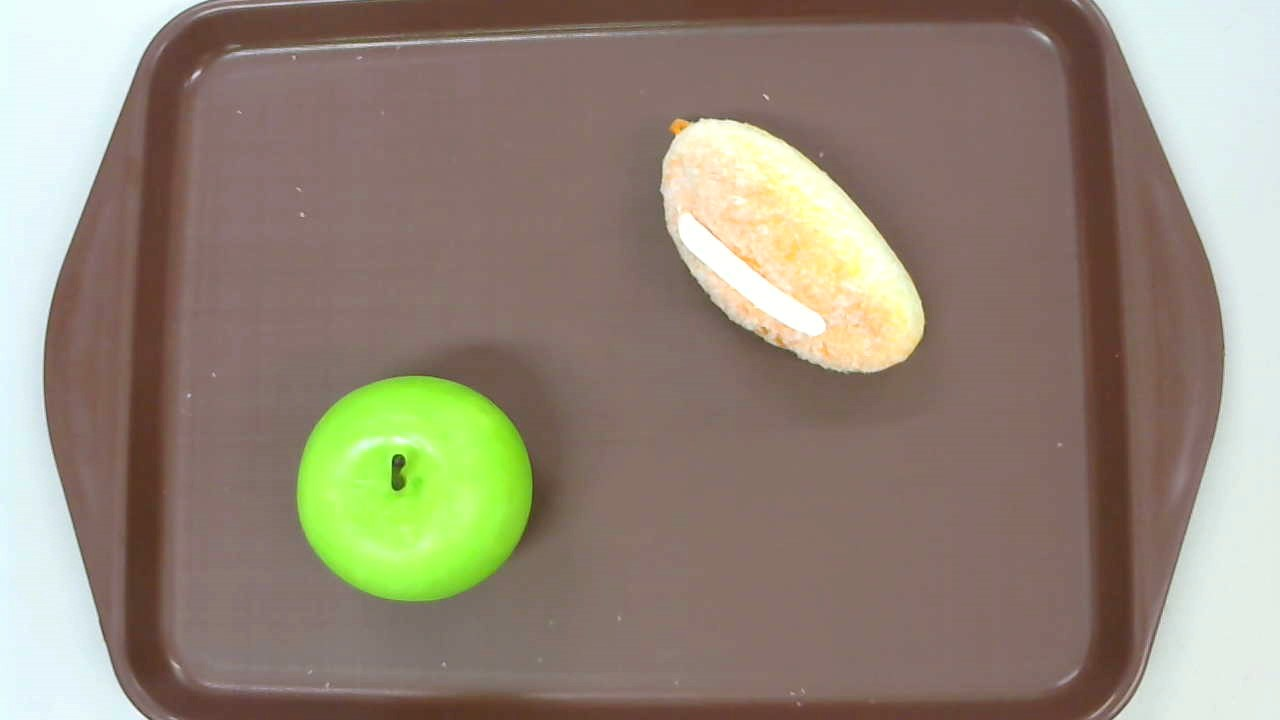coconut: (660, 117, 925, 372)
green apple: (295, 376, 534, 603)
